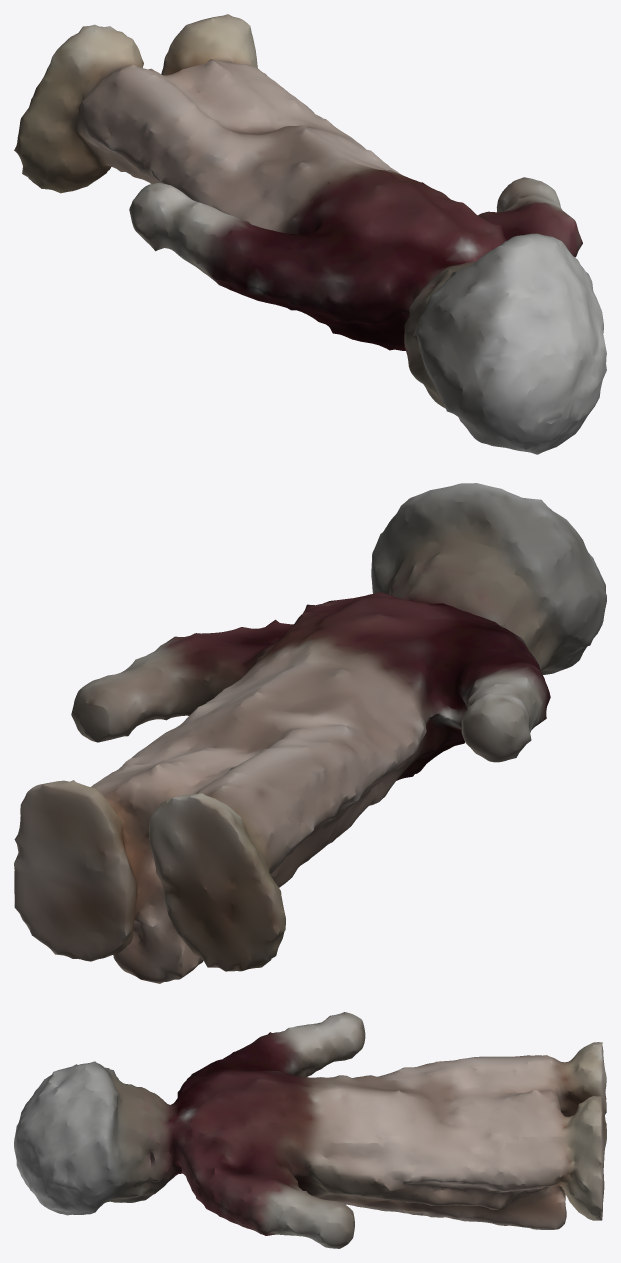
Rendered from grandmother.glb.
3 views of the same model, one above another, from view 1: azimuth 30°, elevation 25°; view 2: azimuth 150°, elevation 25°; view 3: azimuth 270°, elevation 25° (orthographic). The views are drawn at different scales.
Size of the model in its own units: 0.6011 by 0.3044 by 0.9958.
